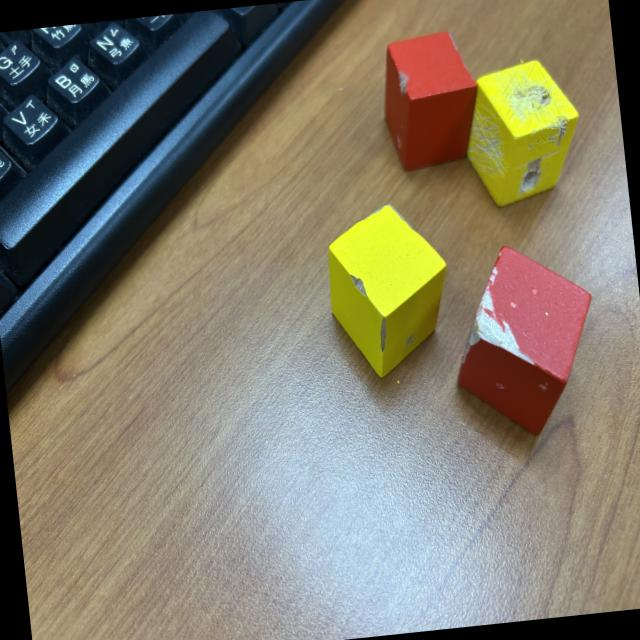broken: (442, 236, 606, 444), (320, 197, 458, 382), (457, 54, 588, 210), (376, 28, 484, 173)
